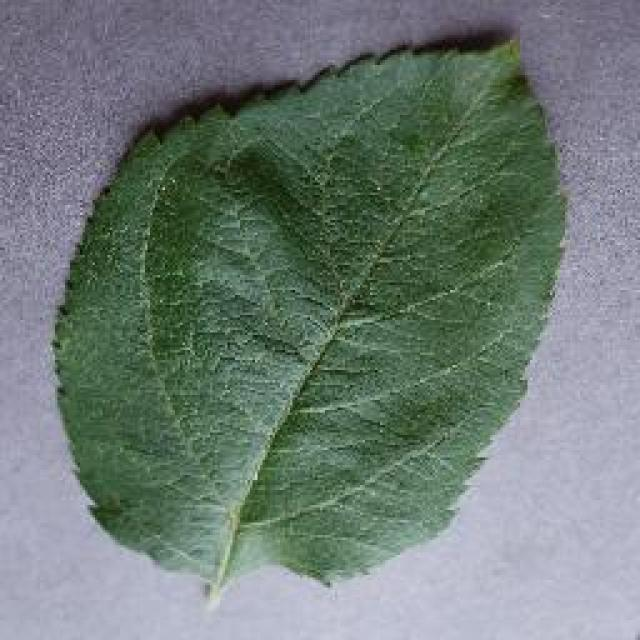Apple___healthy: (48, 8, 580, 570)
